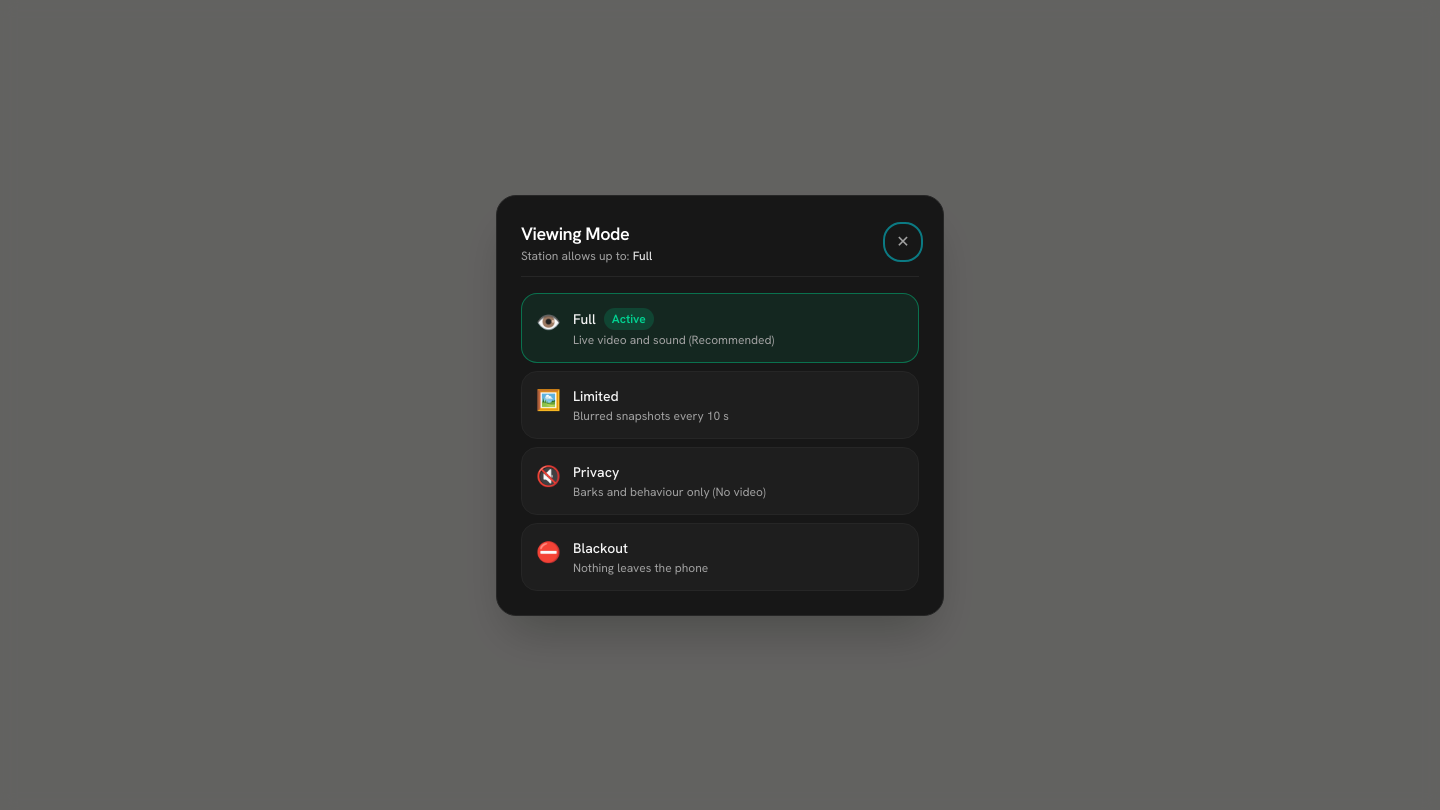
ModeSheet request result › without a station answer the notice stays alone
Click the button "🔇 Privacy Barks and behaviour only (No video)".
click(720, 480)  # box [521,446,919,514]
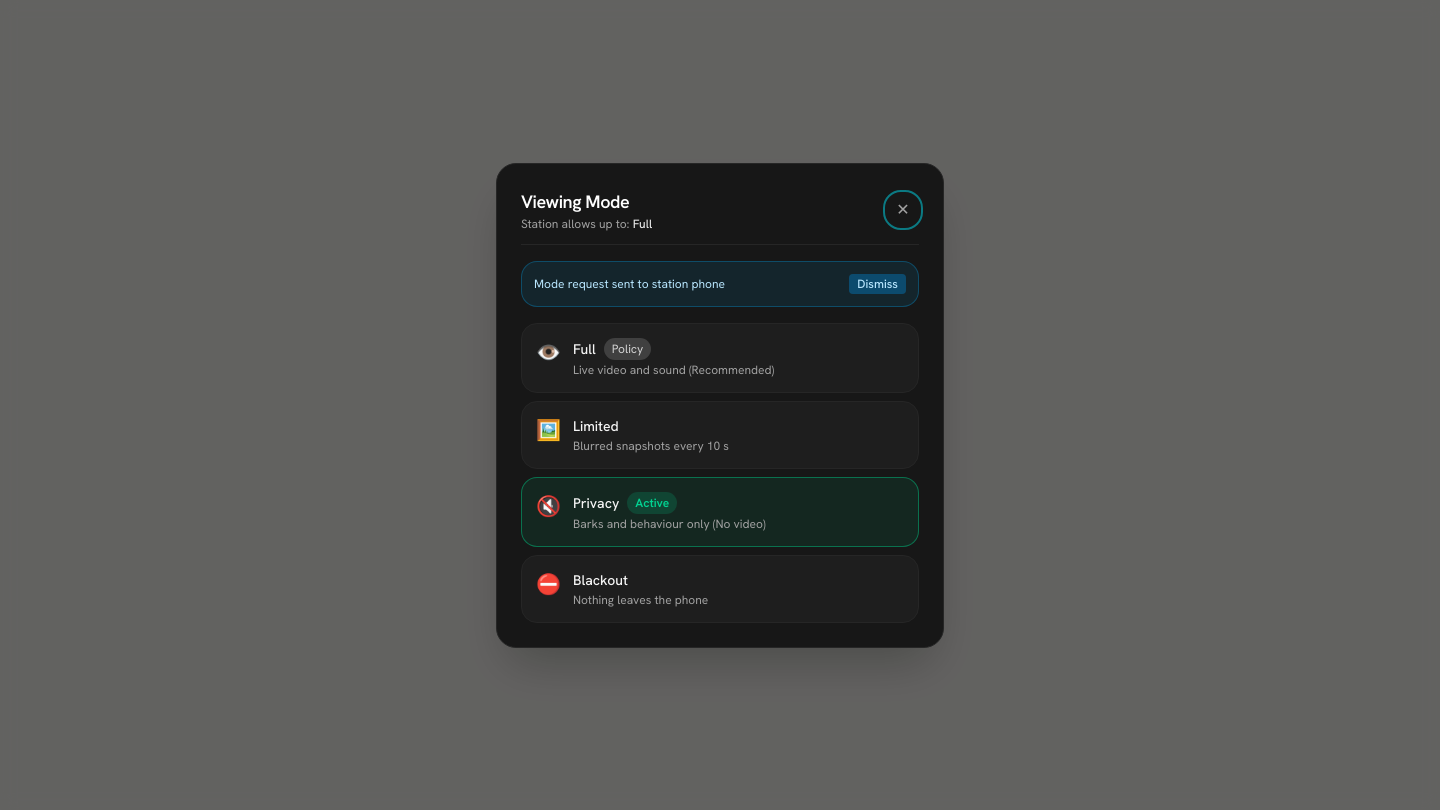
Check: the text "Mode request sent to station phone" is shown, box [534,276,725,292]
